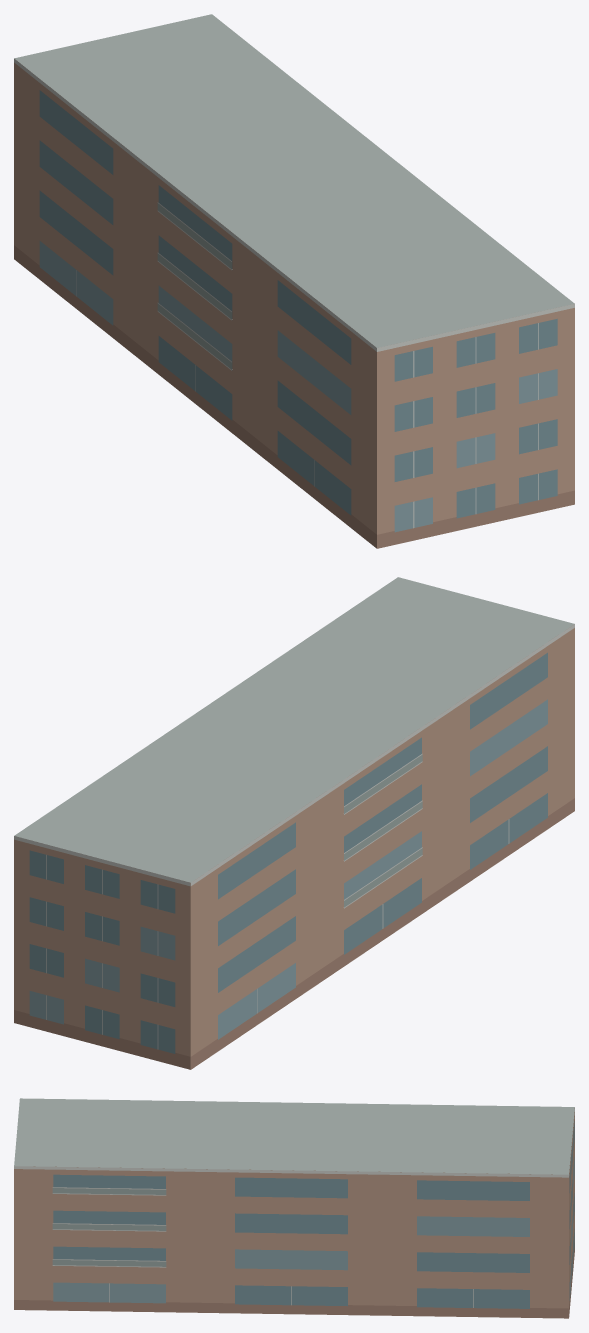
Rendered from residential-2b225d30-2828-4181-9ddd-b9ce4cd4b62a.glb.
3 renders of one model, top to bottom at view 1: azimuth 30°, elevation 25°; view 2: azimuth 150°, elevation 25°; view 3: azimuth 270°, elevation 25°, orthographic. The views are drawn at different scales.
Parts seen in each view (by area): view 1: residential-2b225d30-2828-4181-9ddd-b9ce4cd4b62a.tmp; view 2: residential-2b225d30-2828-4181-9ddd-b9ce4cd4b62a.tmp; view 3: residential-2b225d30-2828-4181-9ddd-b9ce4cd4b62a.tmp.
Part boxes in pixels (x1=…): residential-2b225d30-2828-4181-9ddd-b9ce4cd4b62a.tmp: x1=14, y1=14, x2=574, y2=548; residential-2b225d30-2828-4181-9ddd-b9ce4cd4b62a.tmp: x1=14, y1=577, x2=574, y2=1069; residential-2b225d30-2828-4181-9ddd-b9ce4cd4b62a.tmp: x1=14, y1=1098, x2=574, y2=1318.
Bounding box in the file's own units: 13.89 × 12.2 × 43.14.
